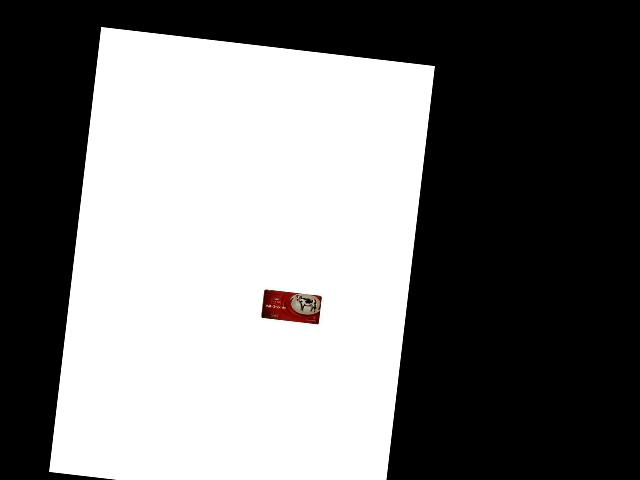chocolate: (259, 289, 321, 326)
